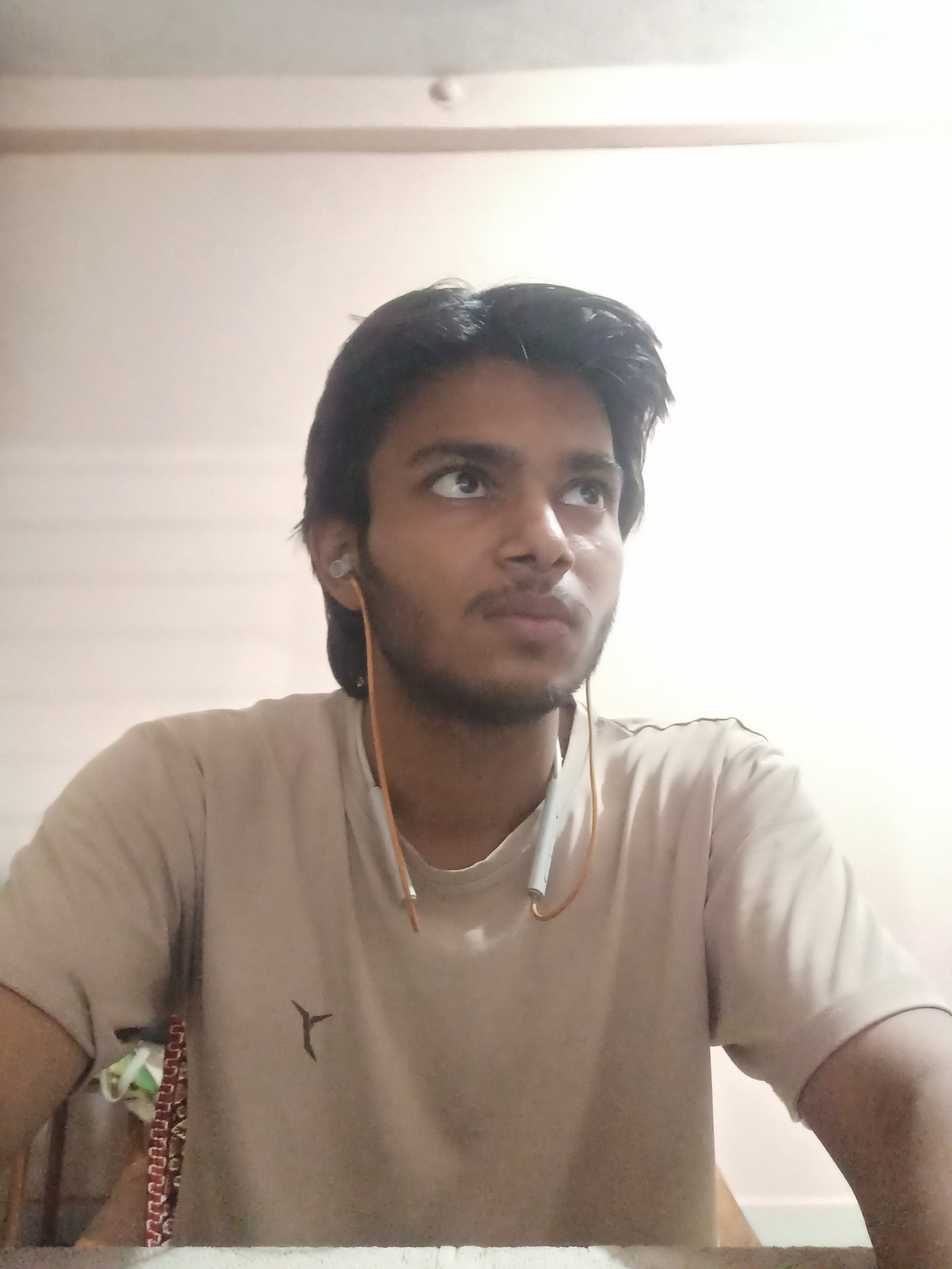distracted: (368, 311, 691, 737)
